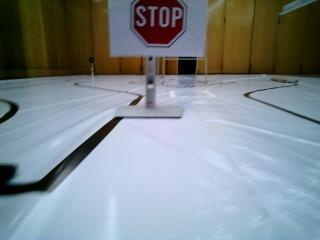stop: (110, 0, 203, 58)
